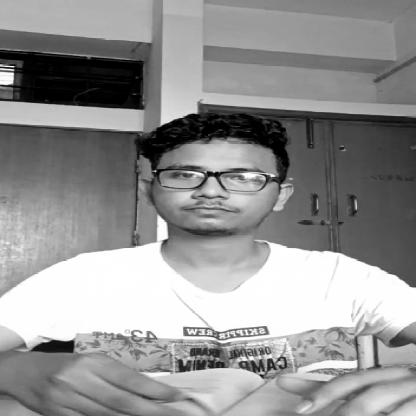Normal: (149, 110, 290, 242)
